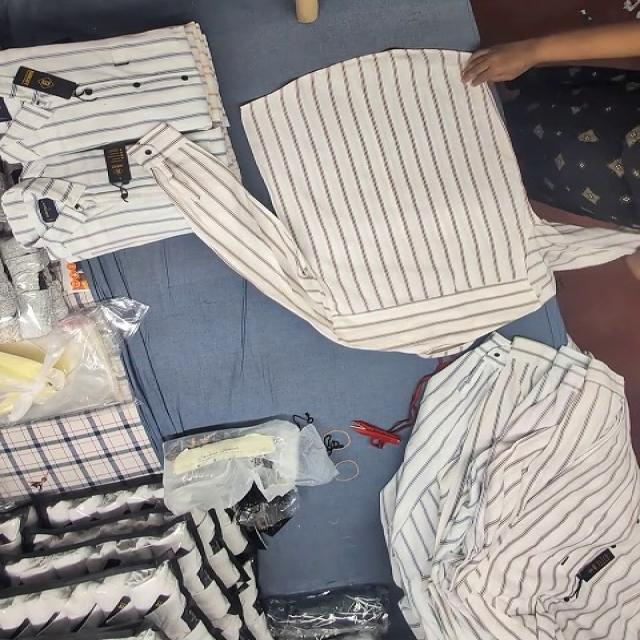new-garment: (140, 49, 637, 356)
